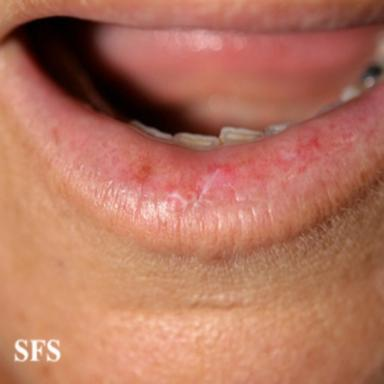lichen: (122, 117, 358, 215)
